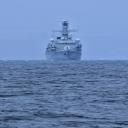Fragata: (46, 20, 88, 63)
